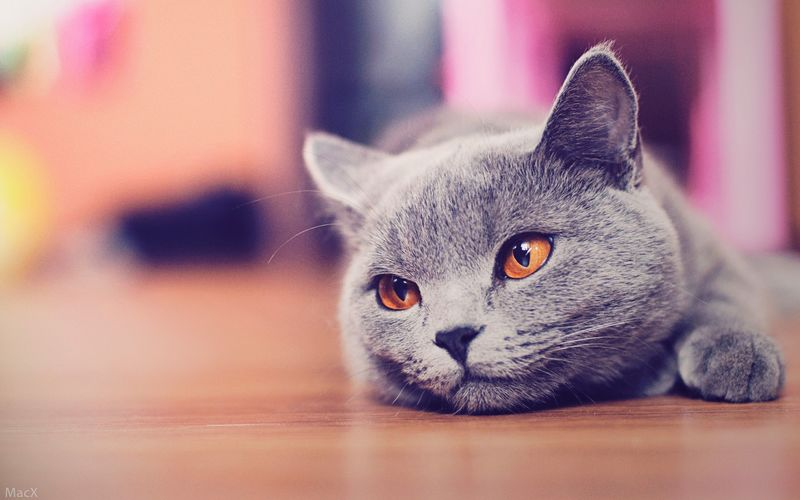cat: (278, 40, 698, 428)
